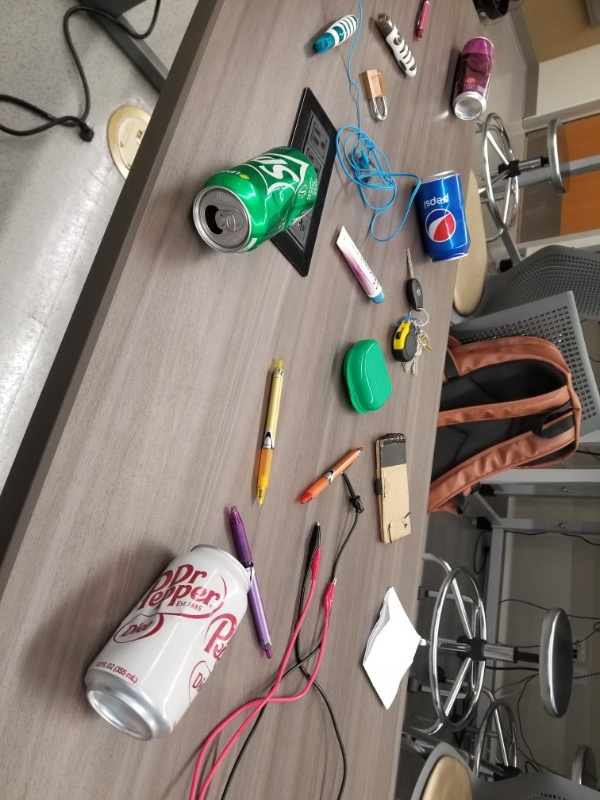can: (81, 543, 263, 746), (190, 145, 321, 263), (416, 167, 477, 268), (449, 31, 499, 124)
